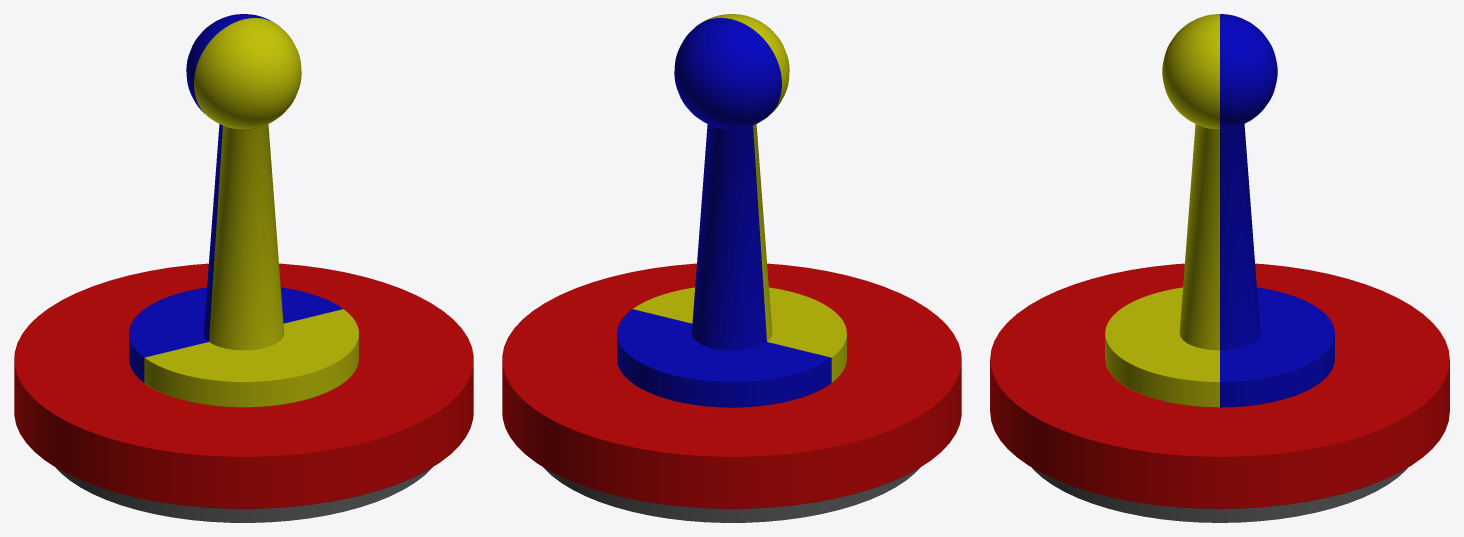
3 views of the same model, side by side, from view 1: azimuth 30°, elevation 25°; view 2: azimuth 150°, elevation 25°; view 3: azimuth 270°, elevation 25° (orthographic).
Visible parts, largest first — view 1: EndEffector; view 2: EndEffector; view 3: EndEffector.
Boxes of the visible parts, x1=… form: EndEffector: x1=14, y1=14, x2=473, y2=522; EndEffector: x1=502, y1=14, x2=961, y2=522; EndEffector: x1=990, y1=14, x2=1449, y2=522.
Size of the model in its own units: 0.0796 by 0.0796 by 0.08.
